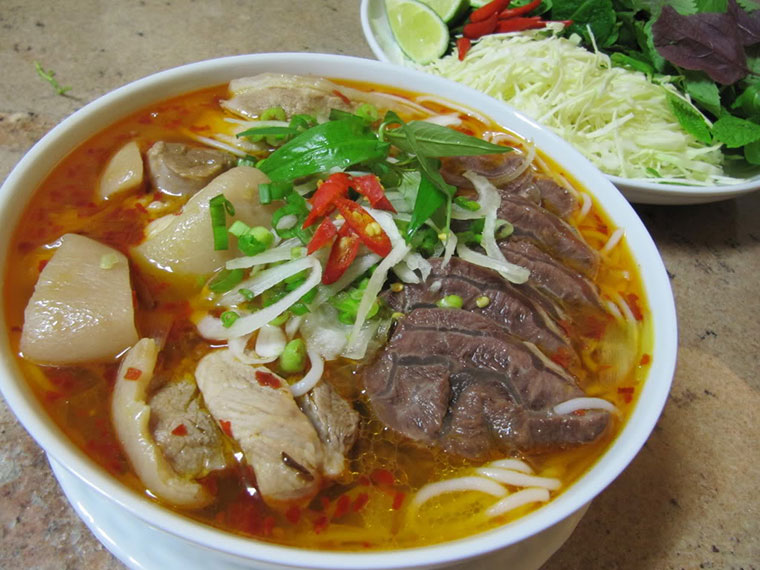beef: (387, 301, 597, 465), (410, 239, 580, 343)
chilli: (303, 176, 410, 269)
onion: (231, 241, 376, 348)
pork: (105, 333, 365, 494), (119, 135, 279, 278), (16, 230, 150, 368)
